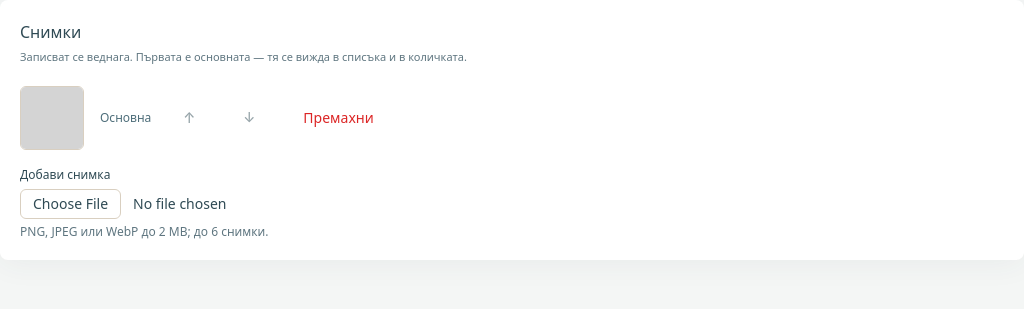
ProductImages › removes by key and shows the refusal
The width and height of the screenshot is (1024, 309).
Click the button "Премахни". click: point(339, 118)
box: [287, 100, 390, 136]
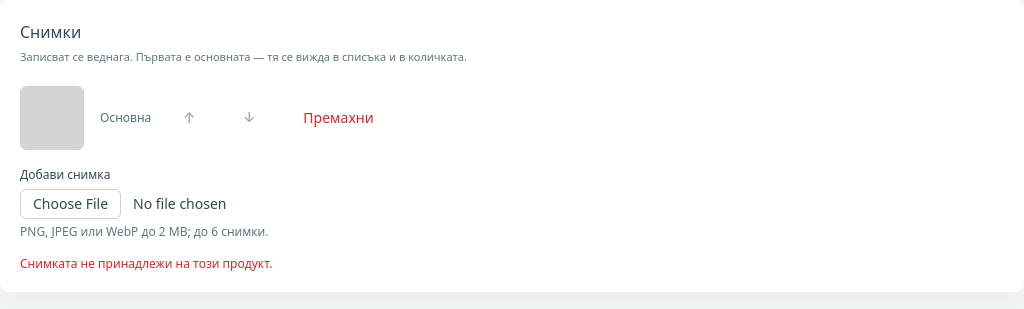
Expected: the text "Снимката не принадлежи на този продукт." is shown, [20, 254, 272, 272]
